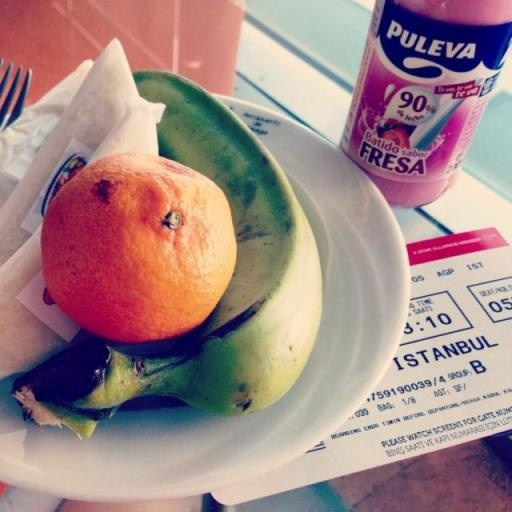fruit: (13, 72, 321, 435), (41, 153, 235, 342)
